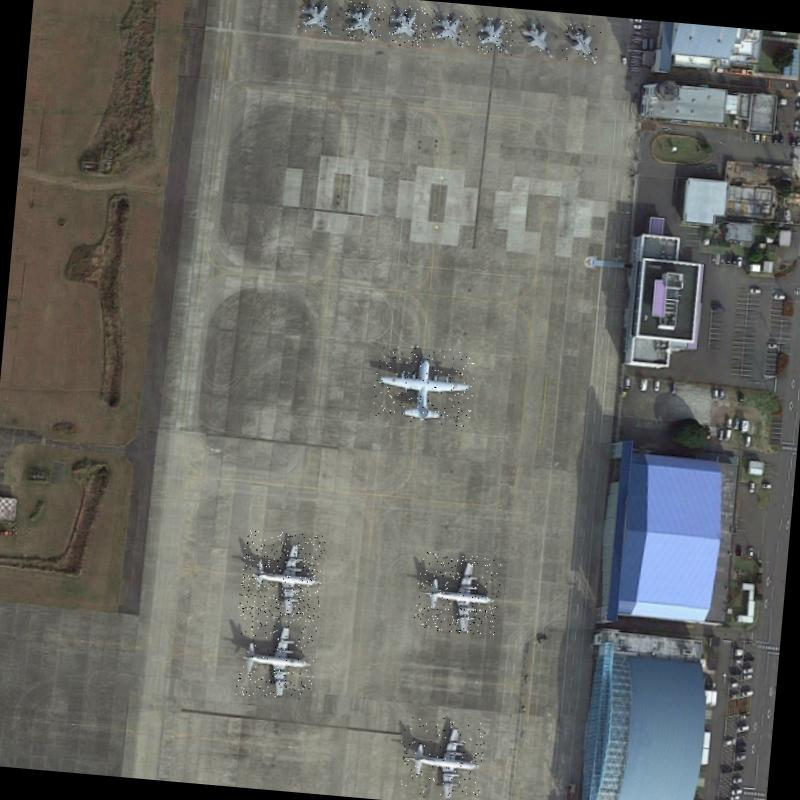A16: (518, 18, 560, 62), (342, 1, 386, 43), (561, 23, 604, 65), (430, 8, 472, 50), (387, 5, 428, 48), (474, 13, 514, 56), (294, 0, 339, 38)
A2: (372, 343, 477, 427)
A9: (238, 529, 326, 623), (396, 714, 486, 800), (414, 552, 503, 636), (236, 618, 318, 702)
